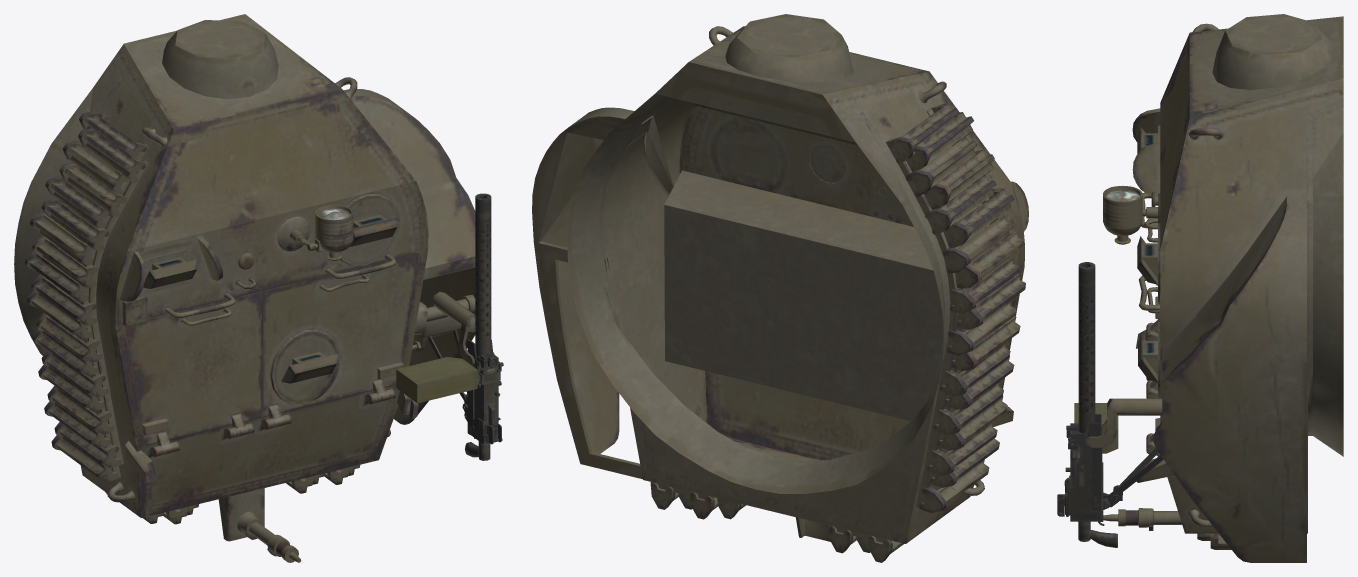
File: Turret_02.glb
The picture shows the model from 3 angles, left to right: view 1: azimuth 30°, elevation 25°; view 2: azimuth 150°, elevation 25°; view 3: azimuth 270°, elevation 25°; orthographic projection. The views are drawn at different scales.
Parts seen in each view (by area): view 1: set_0_group_0; view 2: set_0_group_0; view 3: set_0_group_0.
Boxes of the visible parts, <box> form: set_0_group_0: <box>14,14,503,562</box>; set_0_group_0: <box>532,14,1028,562</box>; set_0_group_0: <box>1057,14,1343,562</box>.
Size of the model in its own units: 1.62 by 1.85 by 0.96.
1 material, 1 textured.
